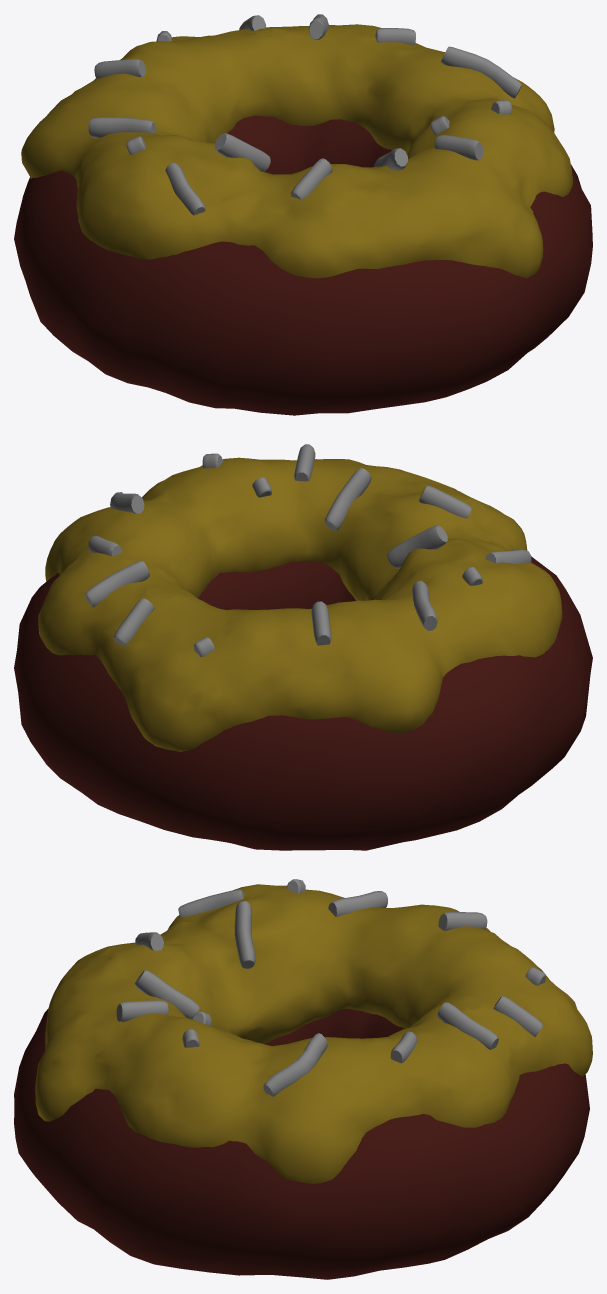
Rendered from donut.obj.
3 views of the same model, one above another, from view 1: azimuth 30°, elevation 25°; view 2: azimuth 150°, elevation 25°; view 3: azimuth 270°, elevation 25° (orthographic).
Parts seen in each view (by area): view 1: donut1:polySurface6polySurface1, donut1:polySurface1polySurface5, donut1:MASH1_ReproMesh; view 2: donut1:polySurface6polySurface1, donut1:polySurface1polySurface5, donut1:MASH1_ReproMesh; view 3: donut1:polySurface6polySurface1, donut1:polySurface1polySurface5, donut1:MASH1_ReproMesh.
Part boxes in pixels (x1,y1,x2,y2): donut1:polySurface6polySurface1: (21, 24, 572, 278); donut1:polySurface1polySurface5: (14, 115, 592, 415); donut1:MASH1_ReproMesh: (88, 14, 521, 215); donut1:polySurface6polySurface1: (38, 457, 562, 751); donut1:polySurface1polySurface5: (14, 556, 592, 850); donut1:MASH1_ReproMesh: (85, 444, 531, 656); donut1:polySurface6polySurface1: (35, 884, 592, 1183); donut1:polySurface1polySurface5: (14, 1008, 589, 1279); donut1:MASH1_ReproMesh: (116, 879, 545, 1096).
Size of the model in its own units: 3.09 by 1.44 by 3.1.
